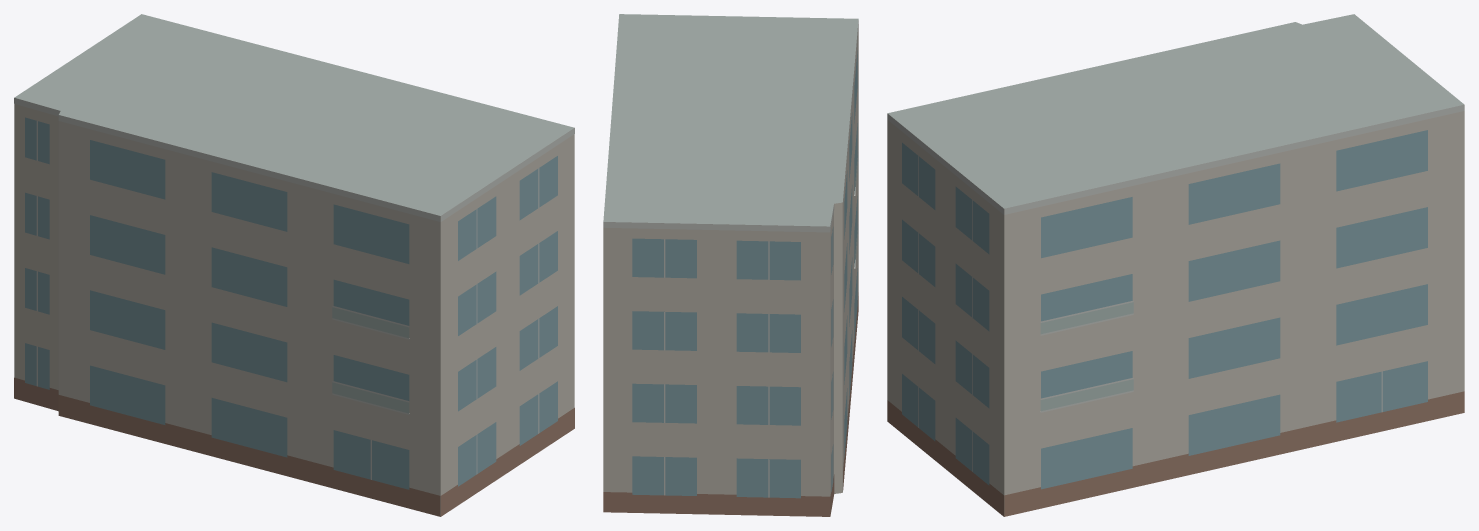
The model's file is survey-upis-32868782.glb.
3 renders of one model, left to right at view 1: azimuth 30°, elevation 25°; view 2: azimuth 150°, elevation 25°; view 3: azimuth 270°, elevation 25°, orthographic. The views are drawn at different scales.
Parts seen in each view (by area): view 1: survey-upis-32868782.tmp; view 2: survey-upis-32868782.tmp; view 3: survey-upis-32868782.tmp.
Boxes of the visible parts, x1,y1,x2,y2 form: survey-upis-32868782.tmp: (14,14,574,516); survey-upis-32868782.tmp: (603,14,858,516); survey-upis-32868782.tmp: (887,14,1464,516).
Bounding box in the file's own units: 16.27 × 12 × 20.38.
